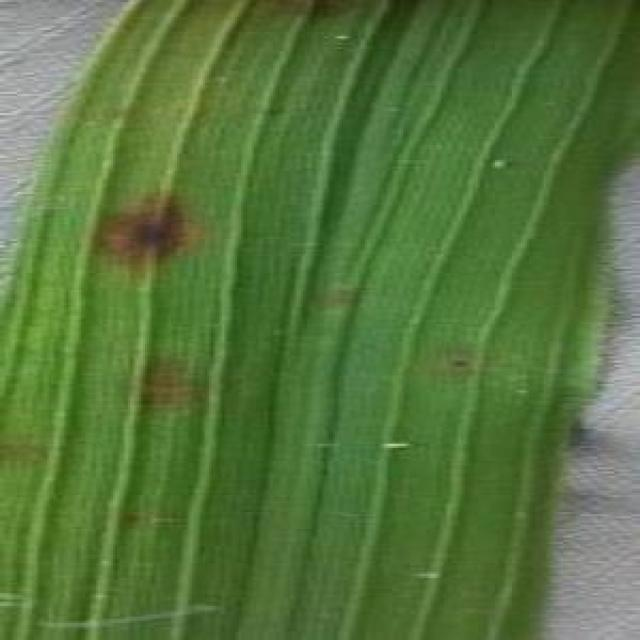Brown_Spot: (94, 185, 224, 276), (124, 351, 202, 424), (424, 344, 506, 377)
